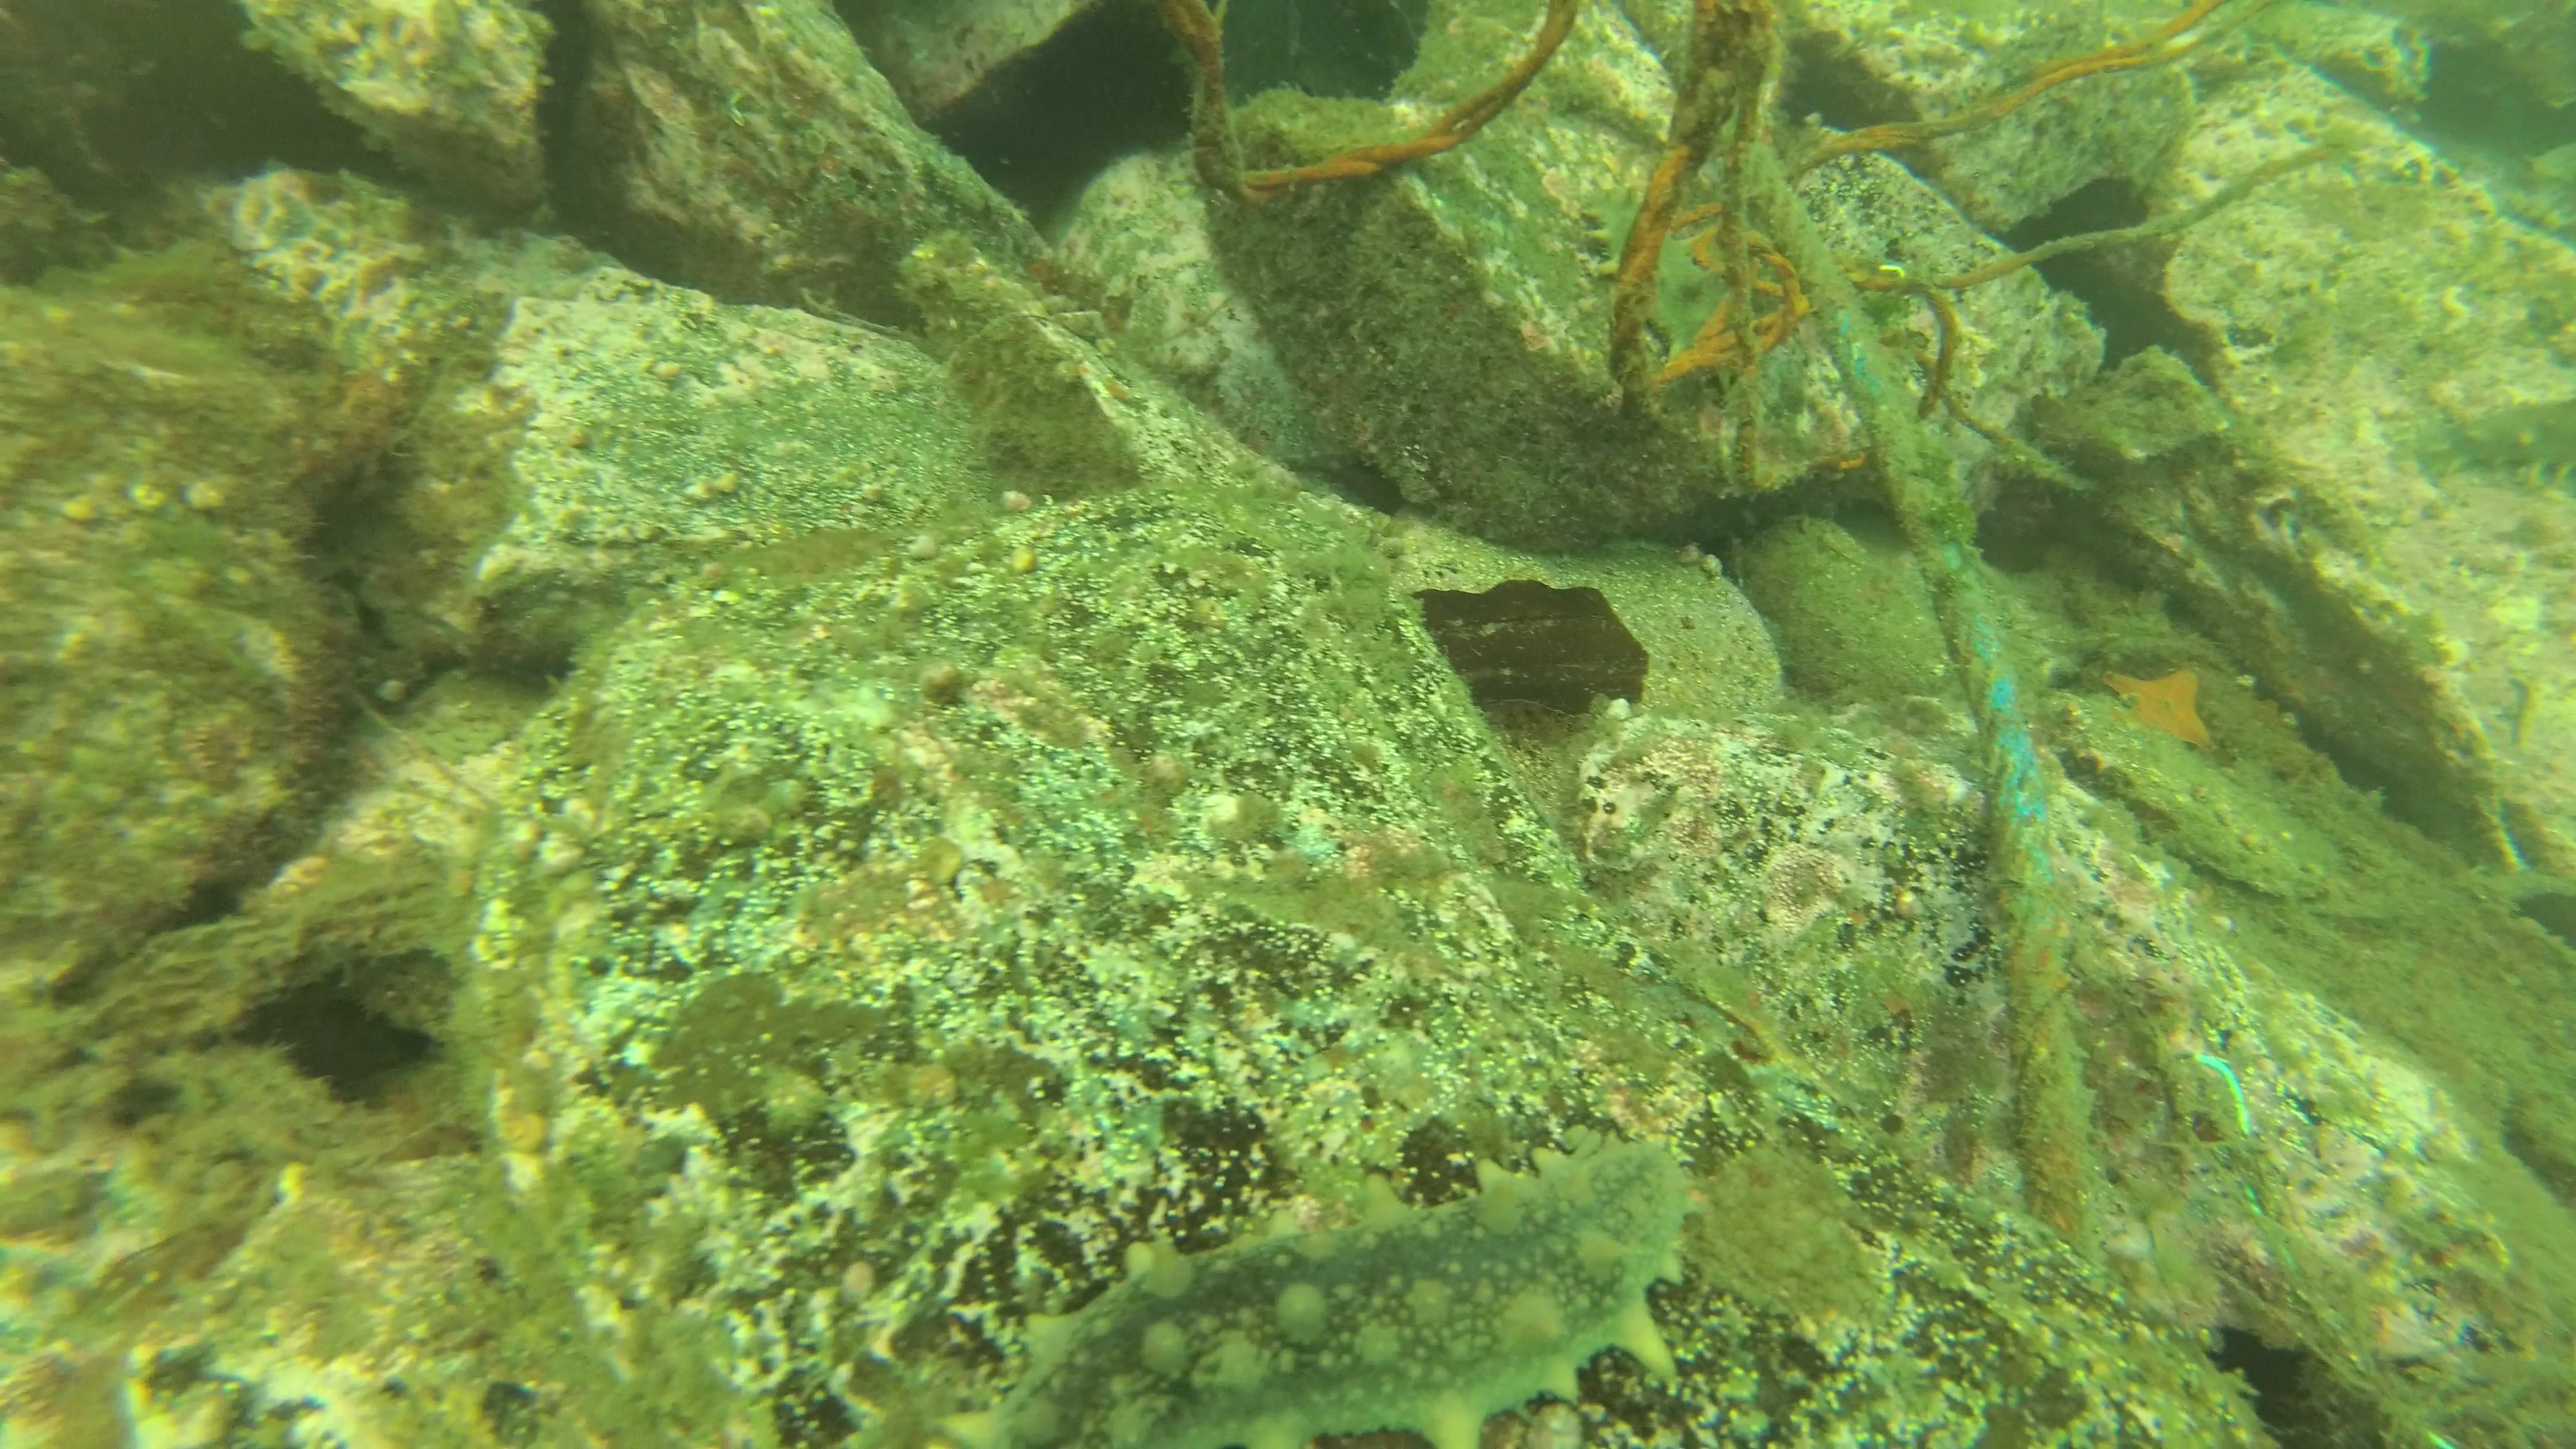holothurian: (962, 1136, 1691, 1449), (2410, 395, 2576, 483)
starfish: (2102, 653, 2213, 763)
